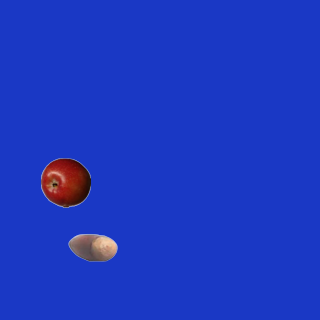Apple Braeburn: (40, 157, 90, 207)
Hazelnut: (67, 222, 117, 272)
